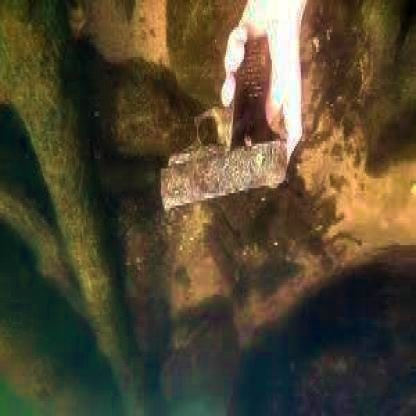misc: (160, 37, 287, 213)
